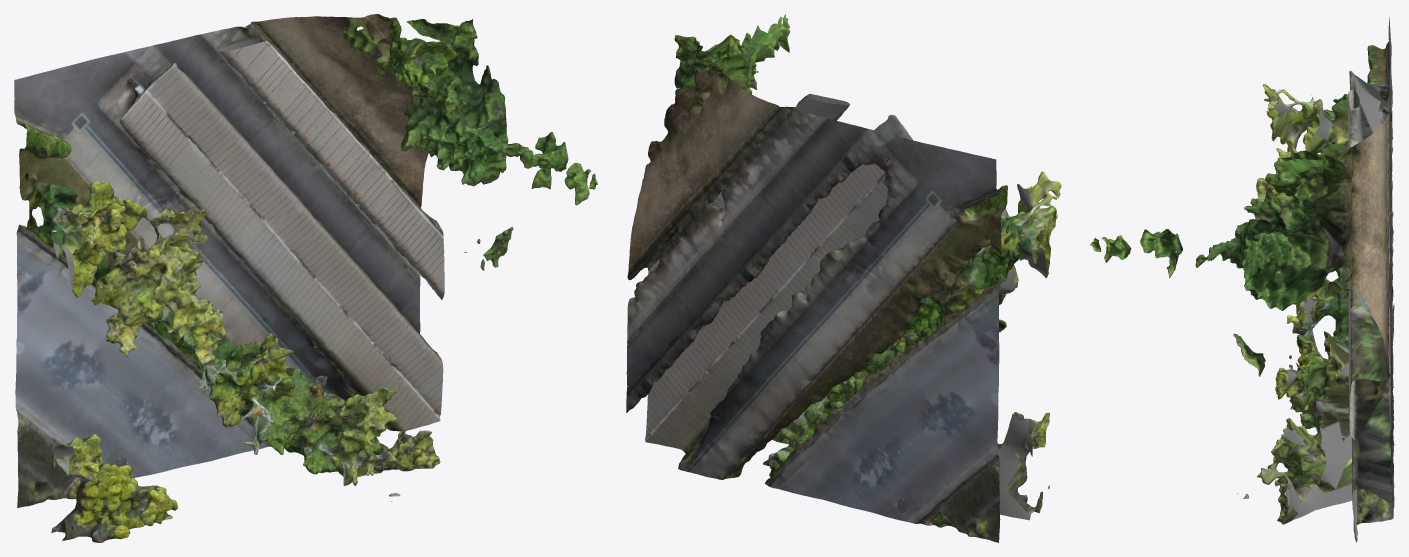
The model's file is Tile_+014_+027.fbx.
The picture shows the model from 3 angles, left to right: view 1: azimuth 30°, elevation 25°; view 2: azimuth 150°, elevation 25°; view 3: azimuth 270°, elevation 25°; orthographic projection. The views are drawn at different scales.
Visible parts, largest first — view 1: DefaultName; view 2: DefaultName; view 3: DefaultName.
Part boxes in pixels (x1,y1,x2,y2): DefaultName: (14, 14, 597, 542); DefaultName: (626, 14, 1061, 542); DefaultName: (1090, 17, 1394, 542).
Size of the model in its own units: 22.54 by 22.54 by 17.24.
